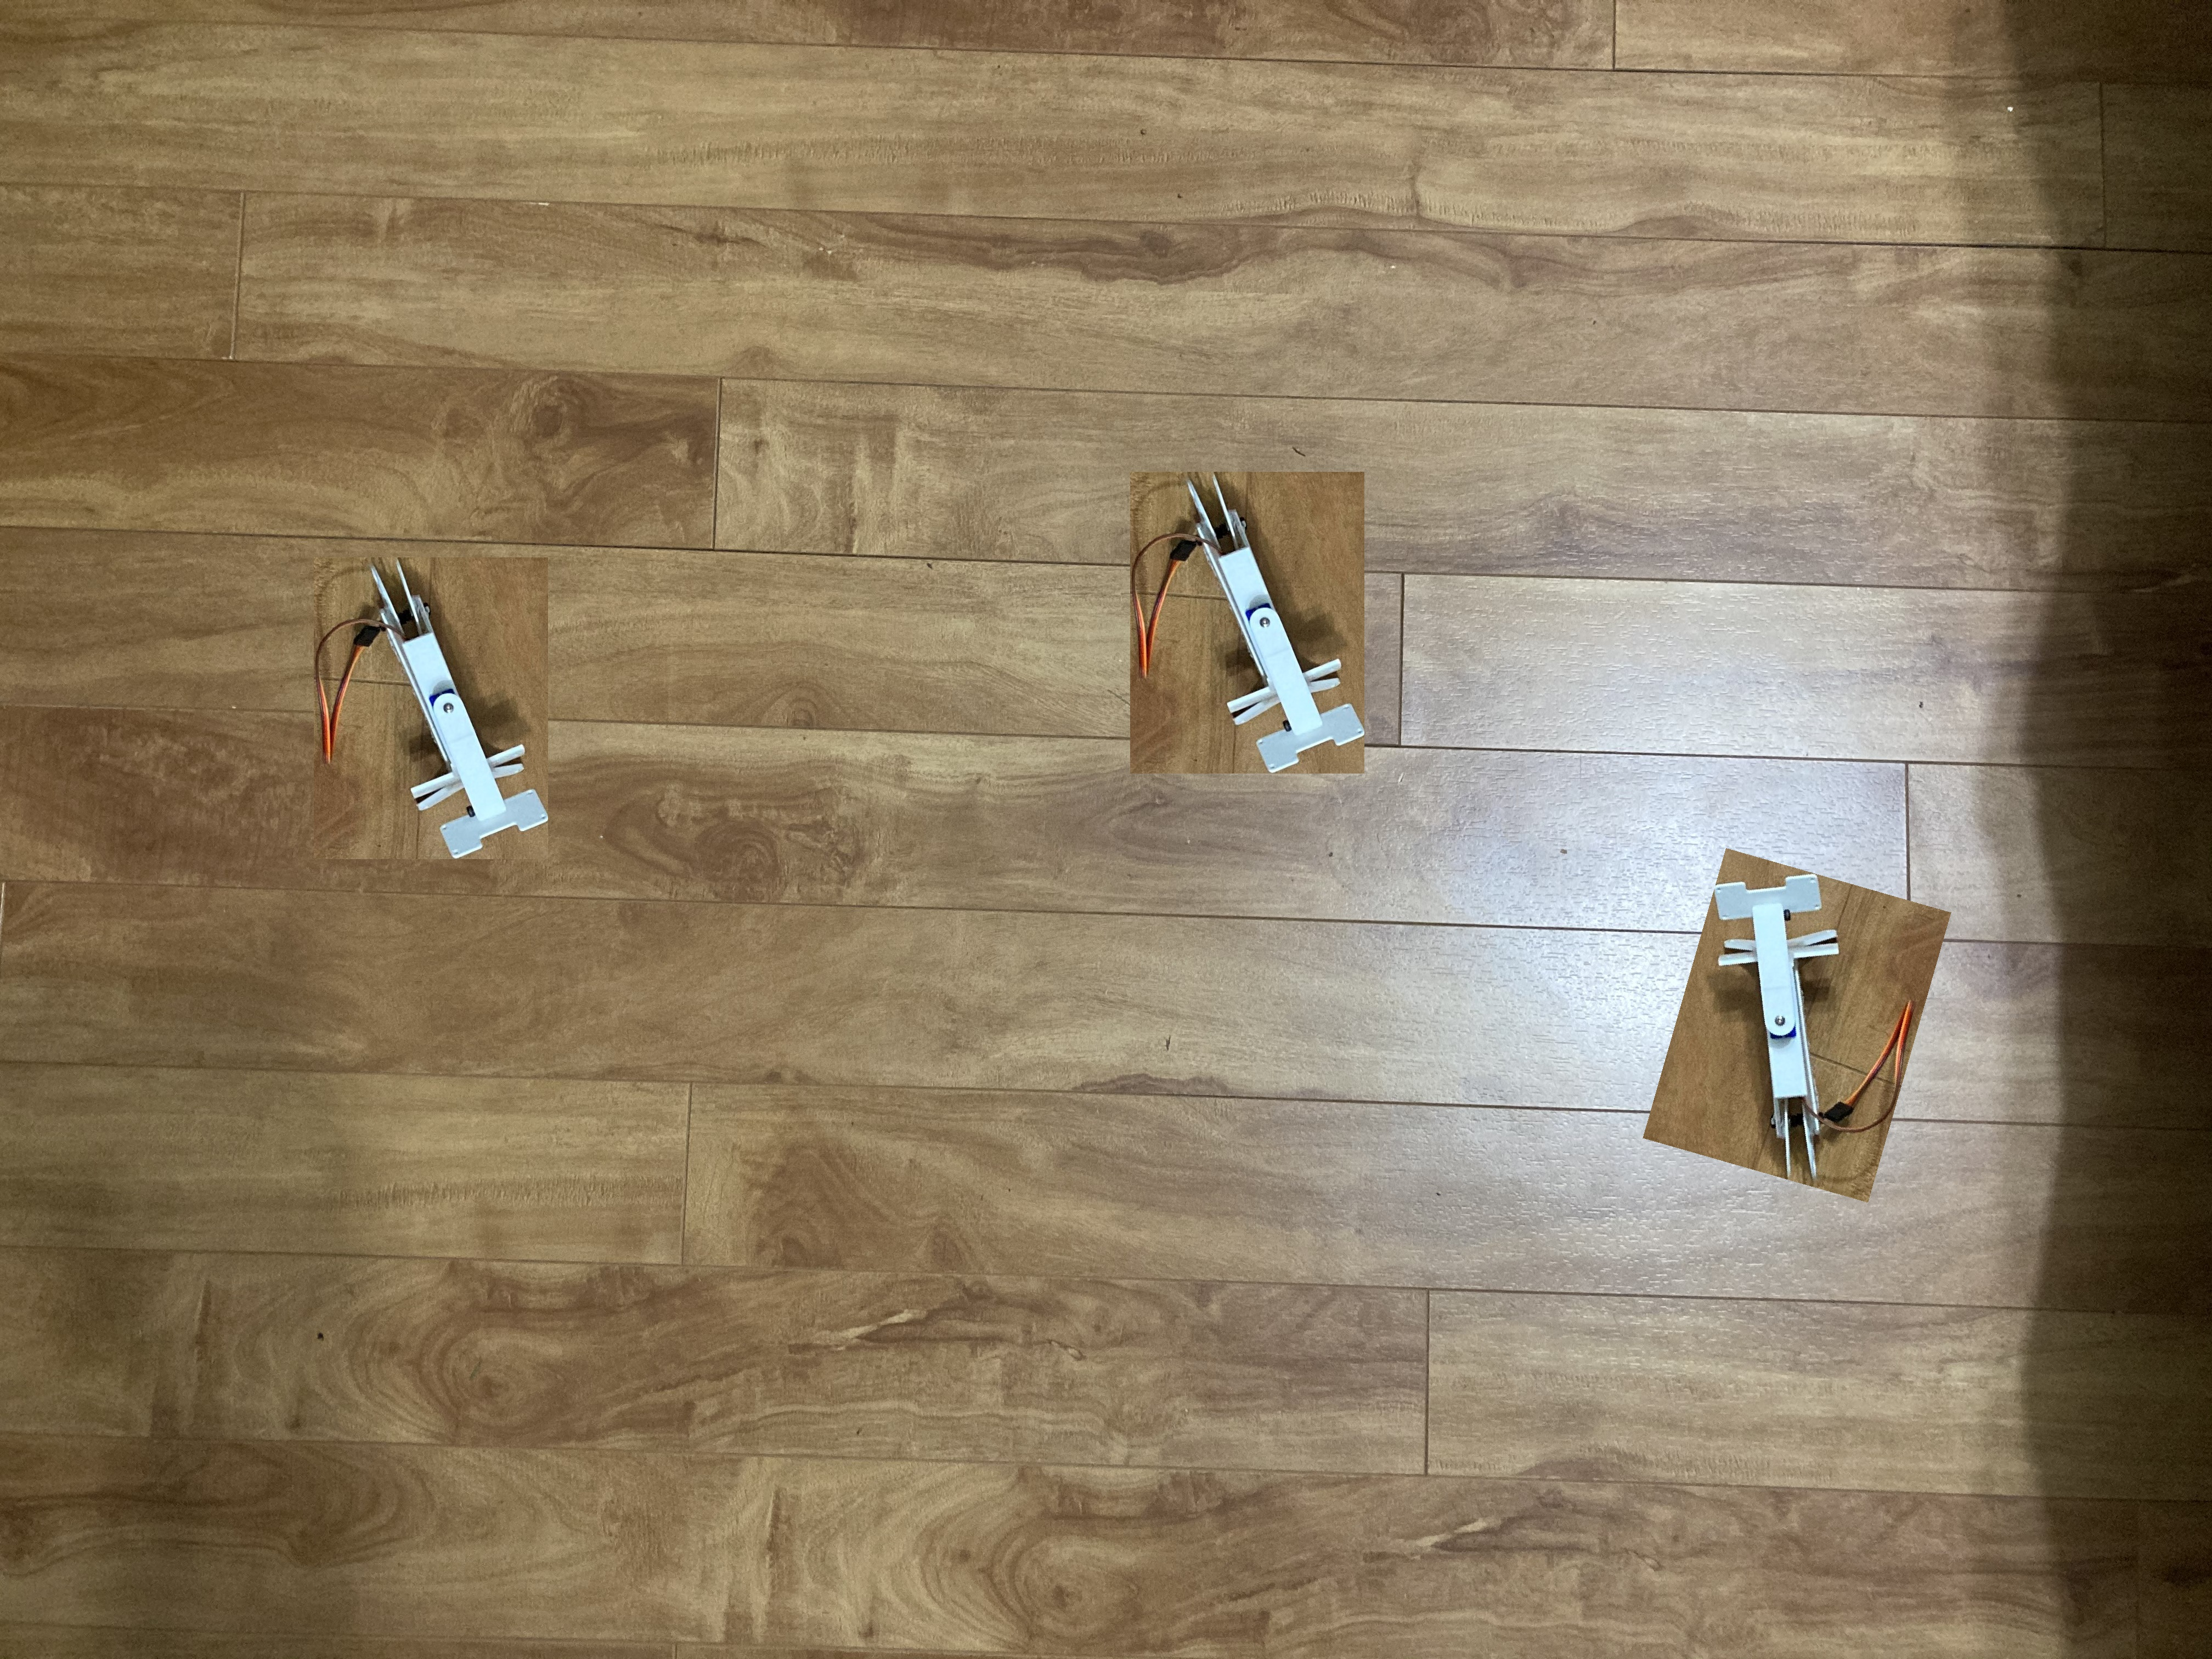robot: (1688, 798, 1925, 1201), (1139, 469, 1379, 784), (312, 542, 550, 849)
